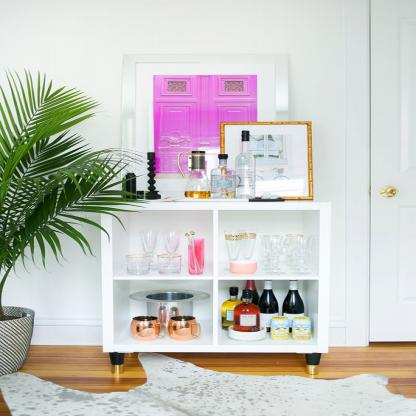lamp: (104, 200, 332, 376)
